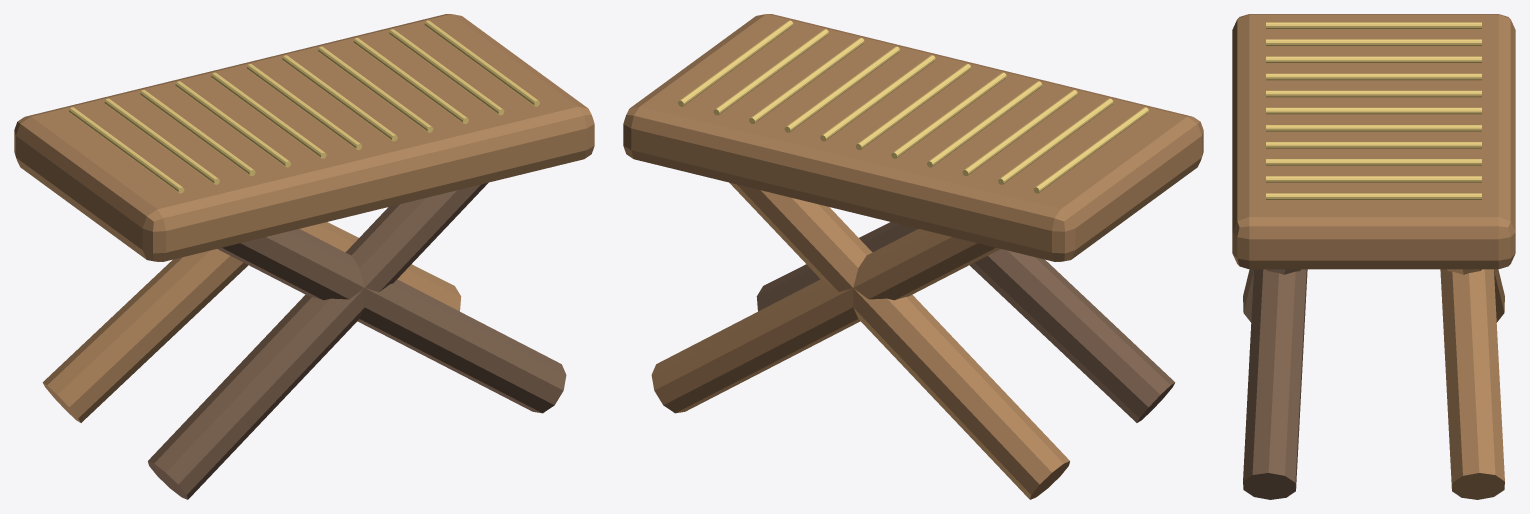
Rendered from stage_drum_stand.glb.
The picture shows the model from 3 angles, left to right: view 1: azimuth 30°, elevation 25°; view 2: azimuth 150°, elevation 25°; view 3: azimuth 270°, elevation 25°; orthographic projection.
Parts seen in each view (by area): view 1: Carved performance drum stand upper deck, Crossed taiko stand legs, Crossed taiko stand legs.001, Laced drum support, Laced drum support.001, Wood tabletop grooves.007, Wood tabletop grooves.010, Wood tabletop grooves.001, Wood tabletop grooves.003, Wood tabletop grooves.004, Wood tabletop grooves.006, Wood tabletop grooves.009 (+4 smaller); view 2: Carved performance drum stand upper deck, Laced drum support, Laced drum support.001, Crossed taiko stand legs, Crossed taiko stand legs.001, Wood tabletop grooves.007, Wood tabletop grooves.010, Wood tabletop grooves.001, Wood tabletop grooves.003, Wood tabletop grooves.004, Wood tabletop grooves.006, Wood tabletop grooves.009 (+4 smaller); view 3: Carved performance drum stand upper deck, Crossed taiko stand legs.001, Laced drum support.001, Wood tabletop grooves.003, Wood tabletop grooves.004, Wood tabletop grooves.005, Wood tabletop grooves, Wood tabletop grooves.001, Wood tabletop grooves.002, Wood tabletop grooves.006, Wood tabletop grooves.007, Wood tabletop grooves.008 (+4 smaller).
Part boxes in pixels (x1,y1,x2,y2): Carved performance drum stand upper deck: (14, 14, 594, 261); Crossed taiko stand legs: (148, 182, 488, 499); Crossed taiko stand legs.001: (217, 229, 566, 413); Laced drum support: (42, 249, 248, 422); Laced drum support.001: (299, 222, 461, 311); Wood tabletop grooves.007: (318, 46, 433, 132); Wood tabletop grooves.010: (424, 20, 539, 106); Wood tabletop grooves.001: (104, 98, 219, 184); Wood tabletop grooves.003: (175, 81, 290, 167); Wood tabletop grooves.004: (211, 72, 326, 158); Wood tabletop grooves.006: (282, 55, 397, 141); Wood tabletop grooves.009: (389, 29, 504, 115); Carved performance drum stand upper deck: (623, 14, 1203, 261); Laced drum support: (729, 182, 1069, 499); Laced drum support.001: (651, 229, 1000, 413); Crossed taiko stand legs: (969, 249, 1175, 422); Crossed taiko stand legs.001: (756, 222, 918, 311); Wood tabletop grooves.007: (784, 46, 899, 132); Wood tabletop grooves.010: (678, 20, 793, 106); Wood tabletop grooves.001: (998, 98, 1113, 184); Wood tabletop grooves.003: (927, 81, 1042, 167); Wood tabletop grooves.004: (891, 72, 1006, 158); Wood tabletop grooves.006: (820, 55, 935, 141); Wood tabletop grooves.009: (713, 29, 828, 115); Carved performance drum stand upper deck: (1232, 14, 1515, 269); Crossed taiko stand legs.001: (1243, 269, 1307, 499); Laced drum support.001: (1440, 269, 1504, 499); Wood tabletop grooves.003: (1266, 73, 1481, 80); Wood tabletop grooves.004: (1266, 90, 1481, 97); Wood tabletop grooves.005: (1266, 107, 1481, 114); Wood tabletop grooves: (1266, 22, 1481, 28); Wood tabletop grooves.001: (1266, 39, 1481, 45); Wood tabletop grooves.002: (1266, 56, 1481, 62); Wood tabletop grooves.006: (1266, 125, 1481, 131); Wood tabletop grooves.007: (1266, 142, 1481, 148); Wood tabletop grooves.008: (1266, 159, 1481, 165).
Size of the model in its own units: 1.95 by 1.29 by 1.08.
